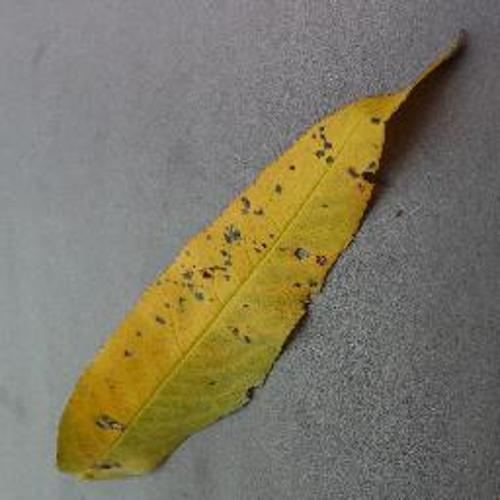Peach: (57, 32, 468, 477)
